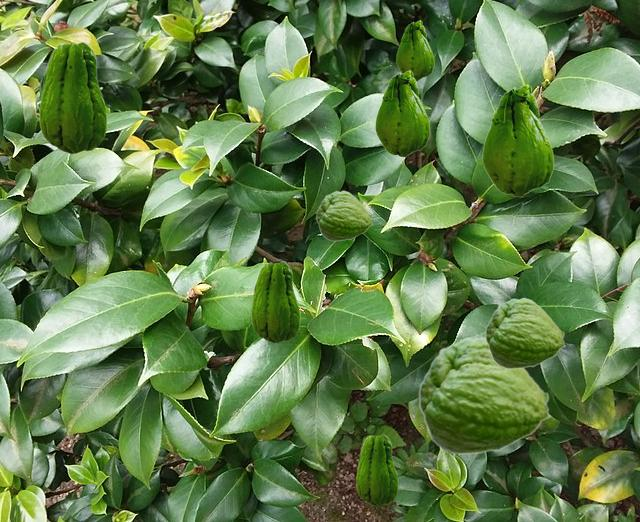sayote: (418, 336, 551, 454), (482, 84, 553, 196), (39, 41, 106, 153), (485, 297, 565, 368), (375, 70, 429, 156), (251, 261, 299, 342), (356, 434, 397, 505), (316, 190, 372, 240), (396, 20, 433, 80)
